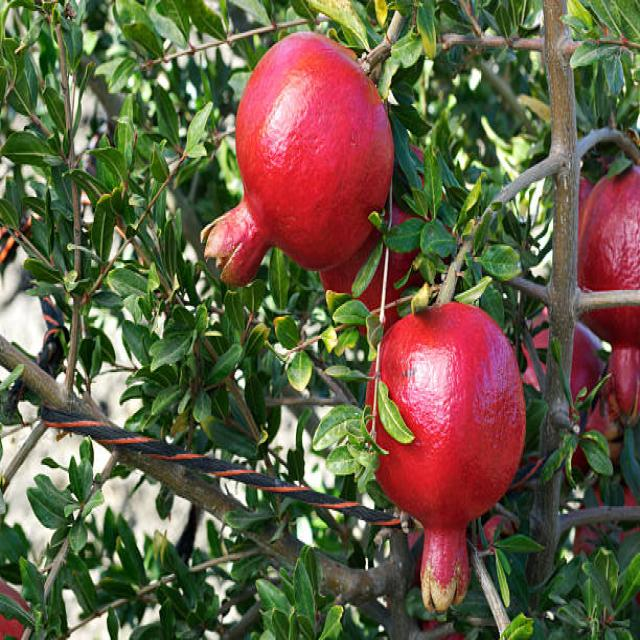Ripe: (358, 303, 526, 615), (203, 28, 395, 287)
